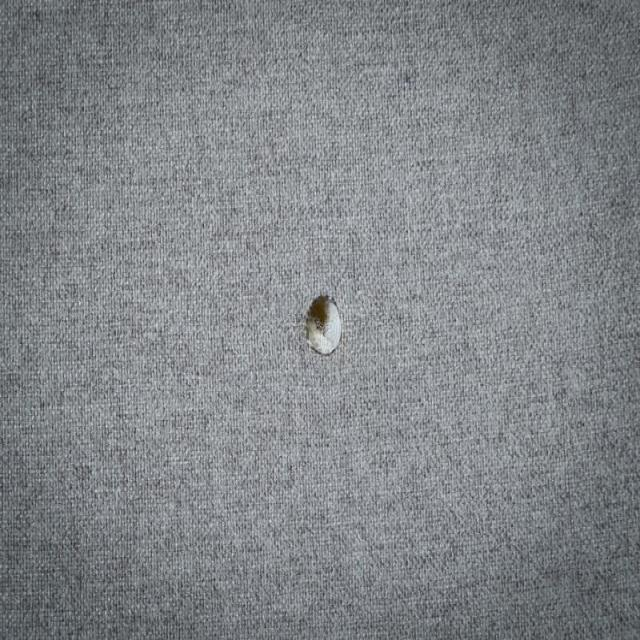Hole: (306, 296, 342, 354)
